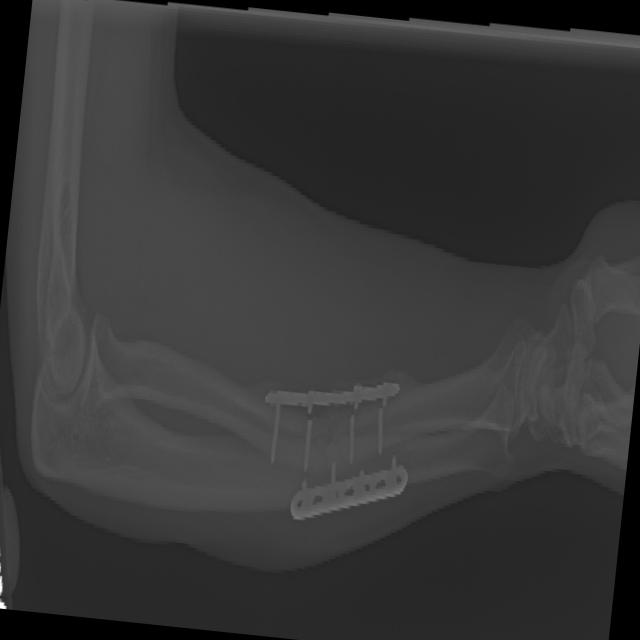forearm fracture: (311, 398, 349, 481)
